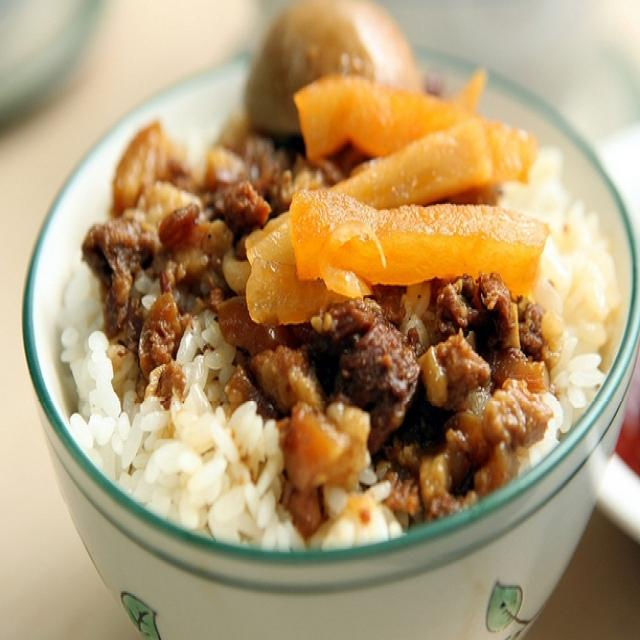猪肉菜式: (23, 13, 636, 599)
